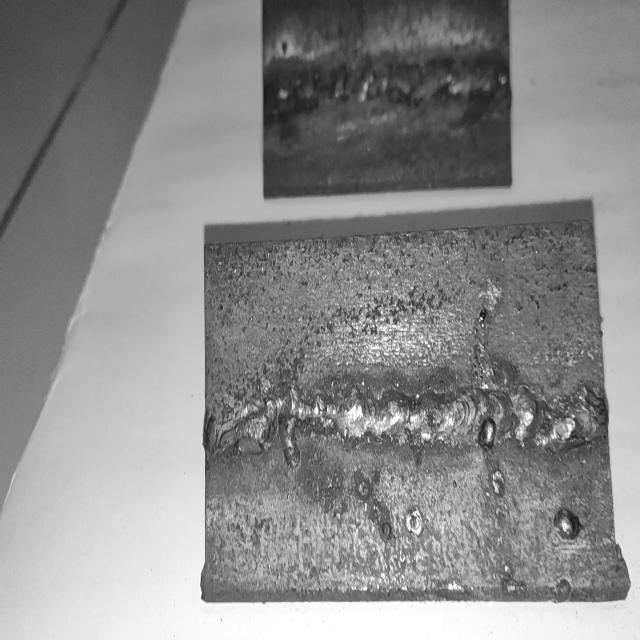Defect: (269, 58, 504, 124), (212, 368, 338, 468), (470, 378, 608, 469)
Welding Line: (209, 379, 607, 465), (268, 60, 508, 119)
Workpiece: (196, 216, 630, 614), (263, 0, 516, 203)
